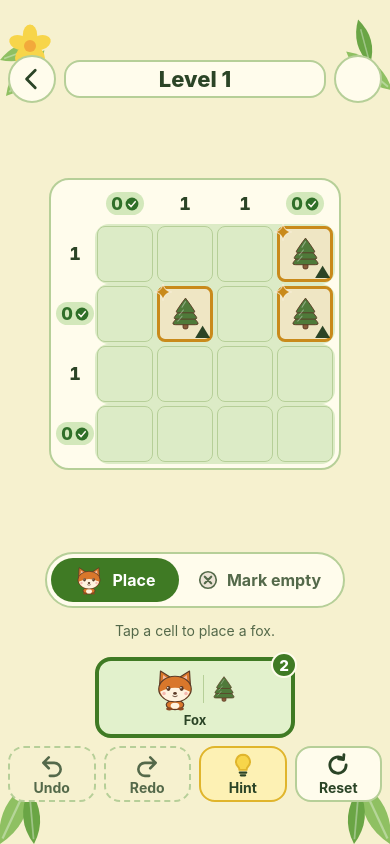
hints on the puzzle screen › a rule already broken on the board points at the flagged cells
Later steps or results of the test are not shown.
Click the button named "Row 3, column 3: unmarked" at (245, 374), box x1=215 y1=344 x2=275 y2=404
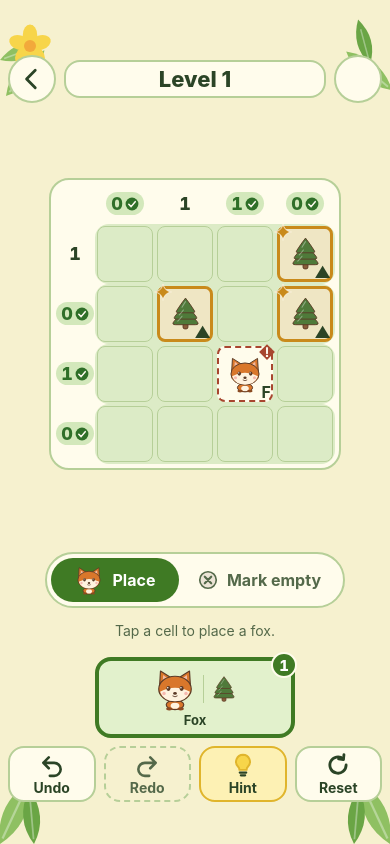
Click the button with test id "action-hint" at (243, 774), box x1=199 y1=746 x2=286 y2=802
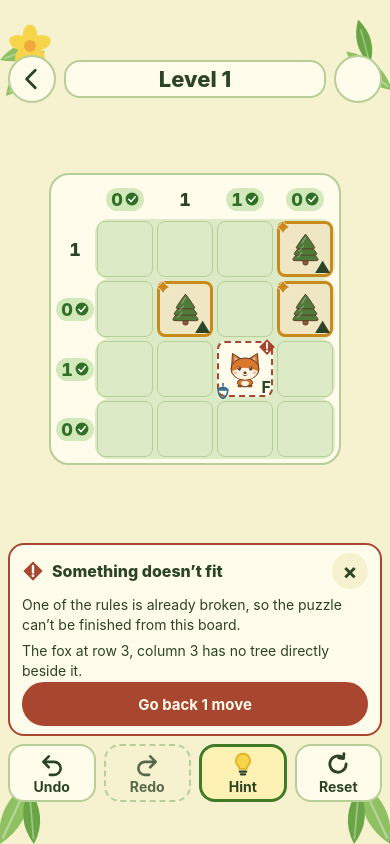
Check: the text "The fox at row 3, column 3 has no tree directly beside it." is shown, box x1=22 y1=641 x2=368 y2=676
